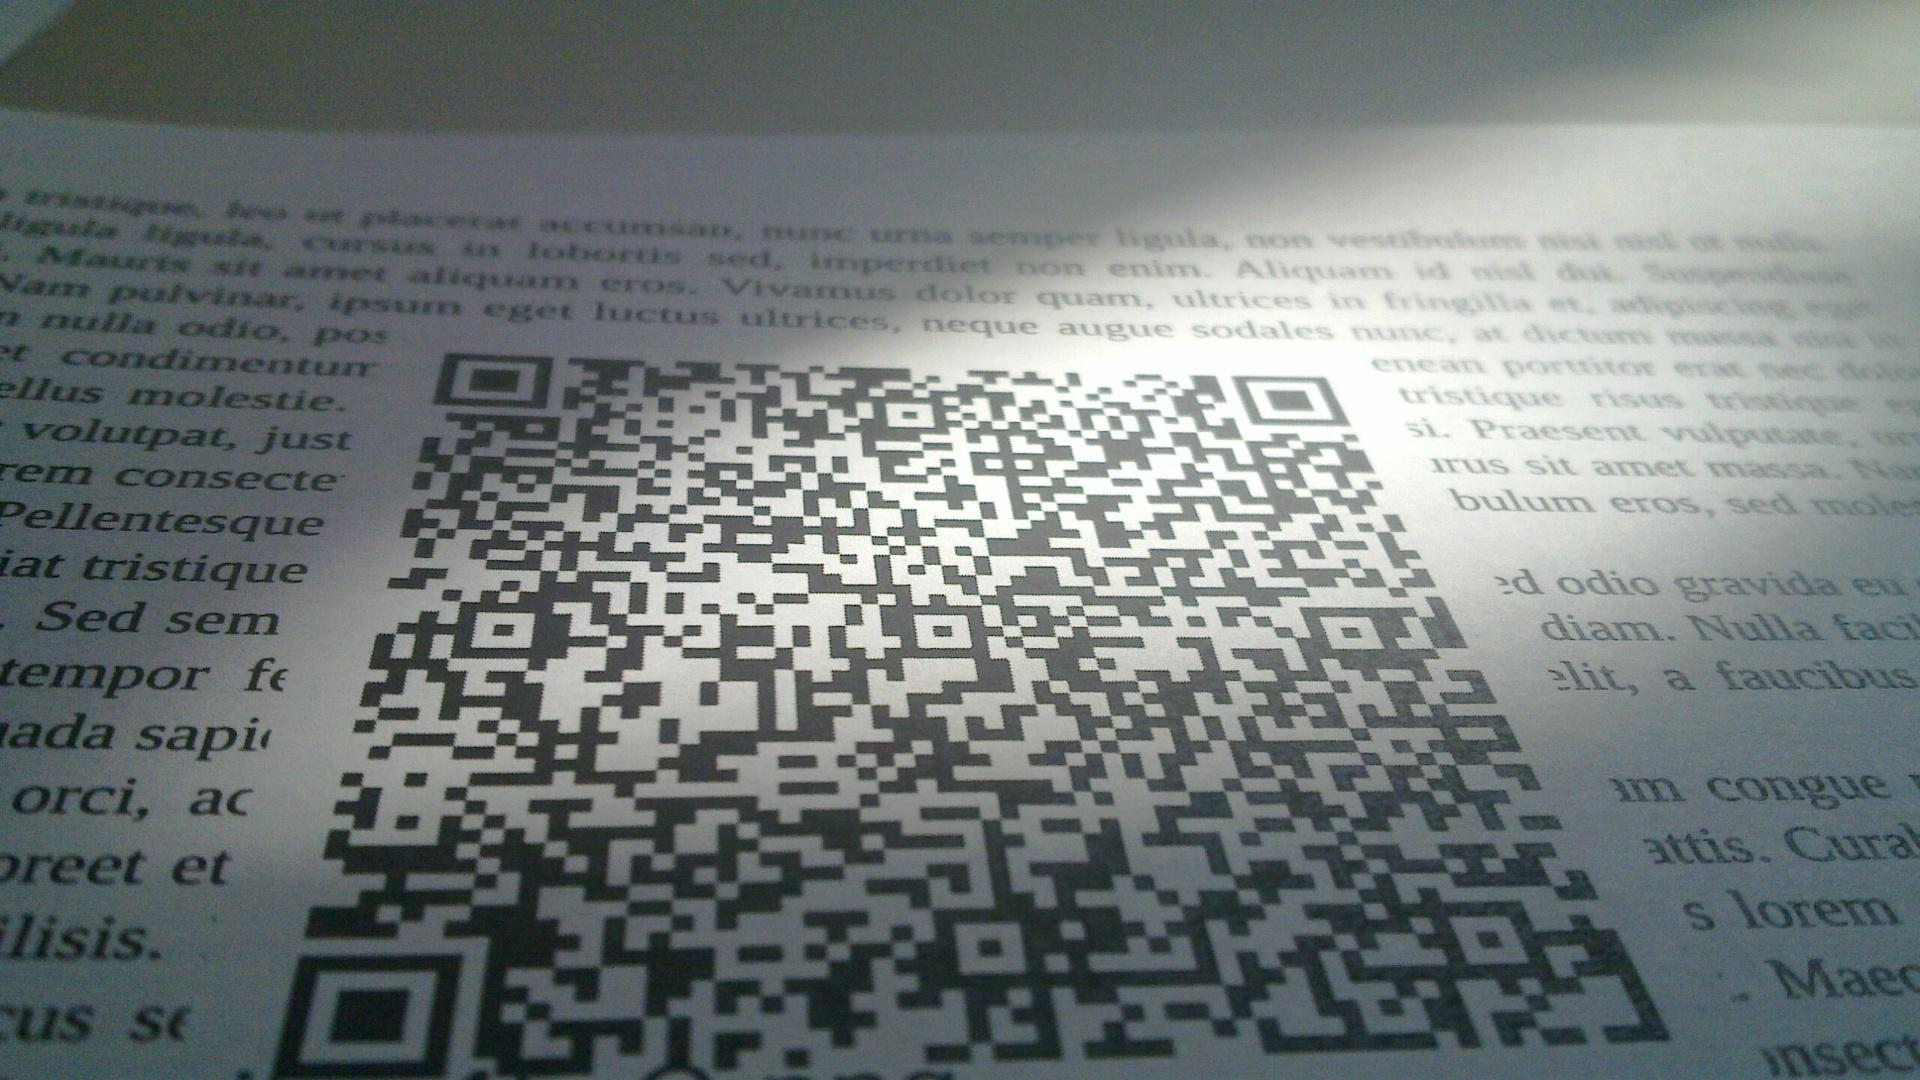Finder pattern: (257, 953, 462, 1073), (434, 342, 559, 415), (1225, 367, 1352, 435)
